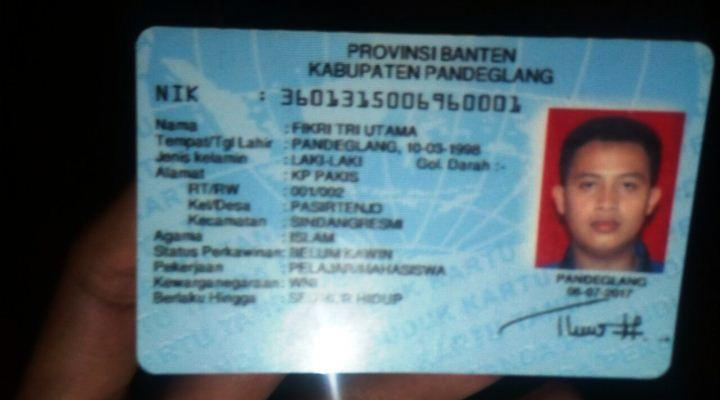ID-card: (142, 23, 709, 373)
